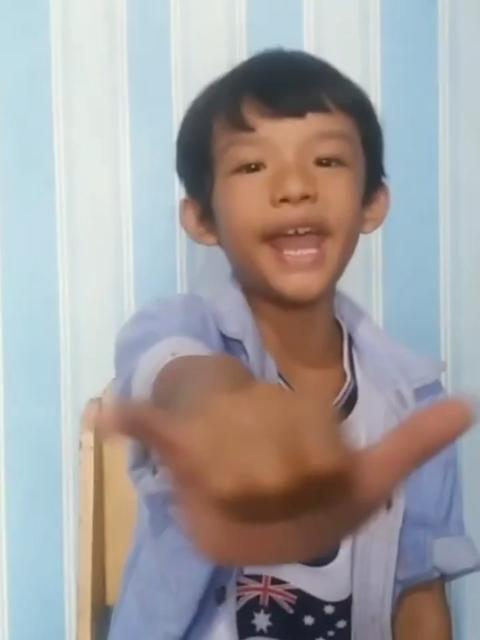Y: (78, 344, 480, 588)
